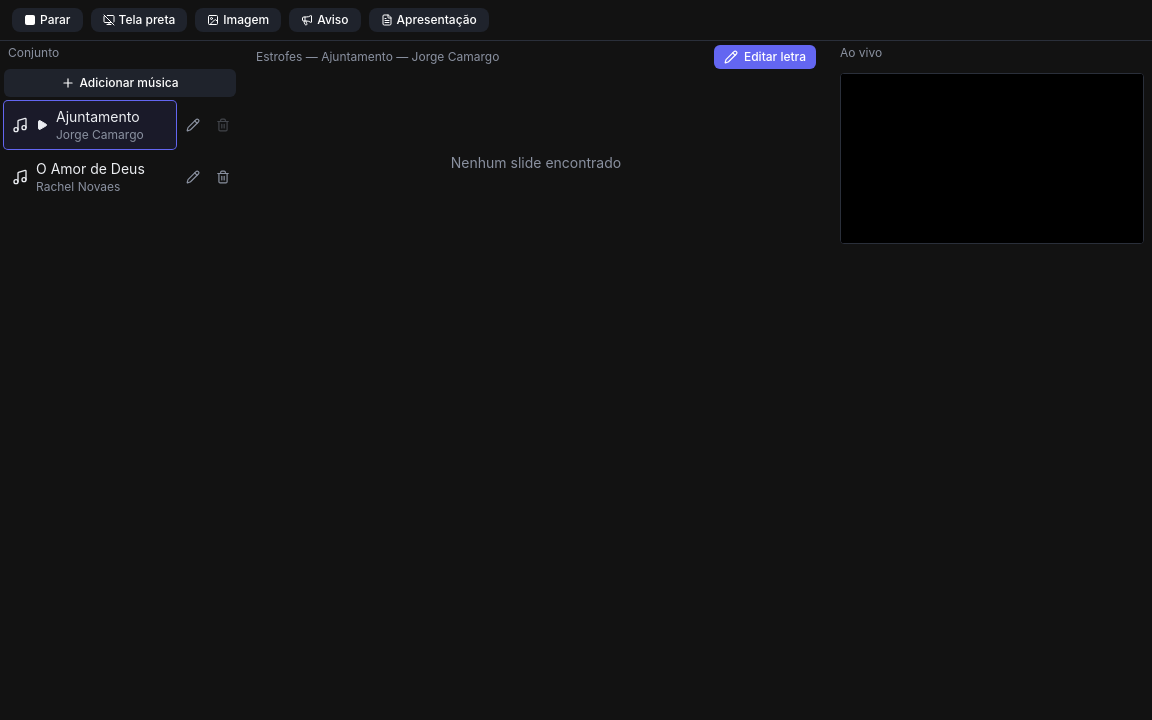
Test: Live song row edit › row edit opens that song without moving the wall
Expected: the text "Estrofes — Ajuntamento — Jorge Camargo" is shown, [256, 49, 499, 65]
Click the button named "Editar música O Amor de Deus": coordinates (193, 177) [180, 164, 206, 190]
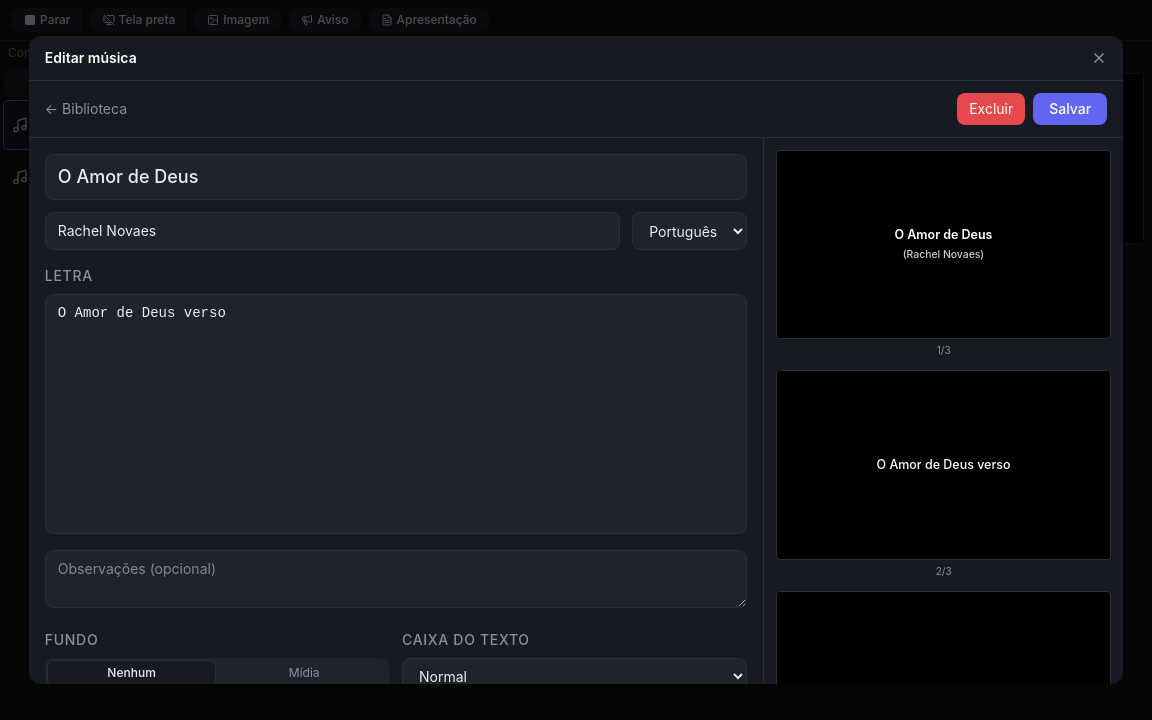
Expected: the button "Ajuntamento Jorge Camargo" is shown, [4, 101, 176, 149]
Expected: the 1st field showing "O Amor de Deus" is shown, [45, 154, 747, 200]
Expected: the heading "Editar música" is shown, [45, 48, 137, 68]
